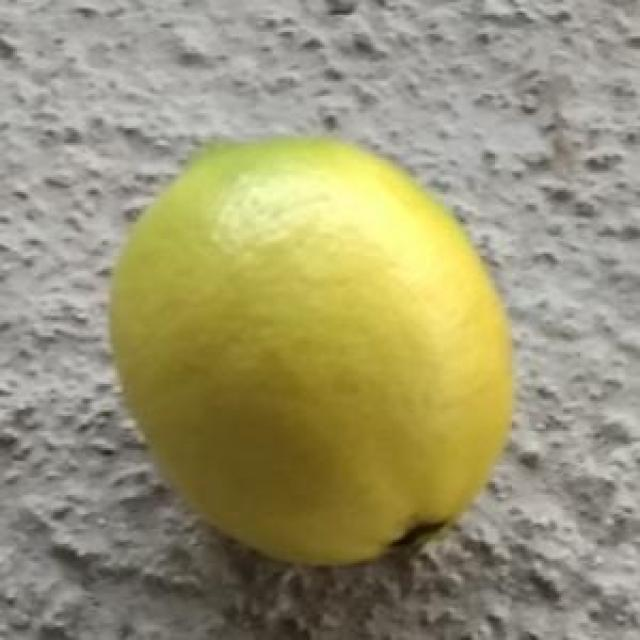lemon: (108, 139, 516, 567)
